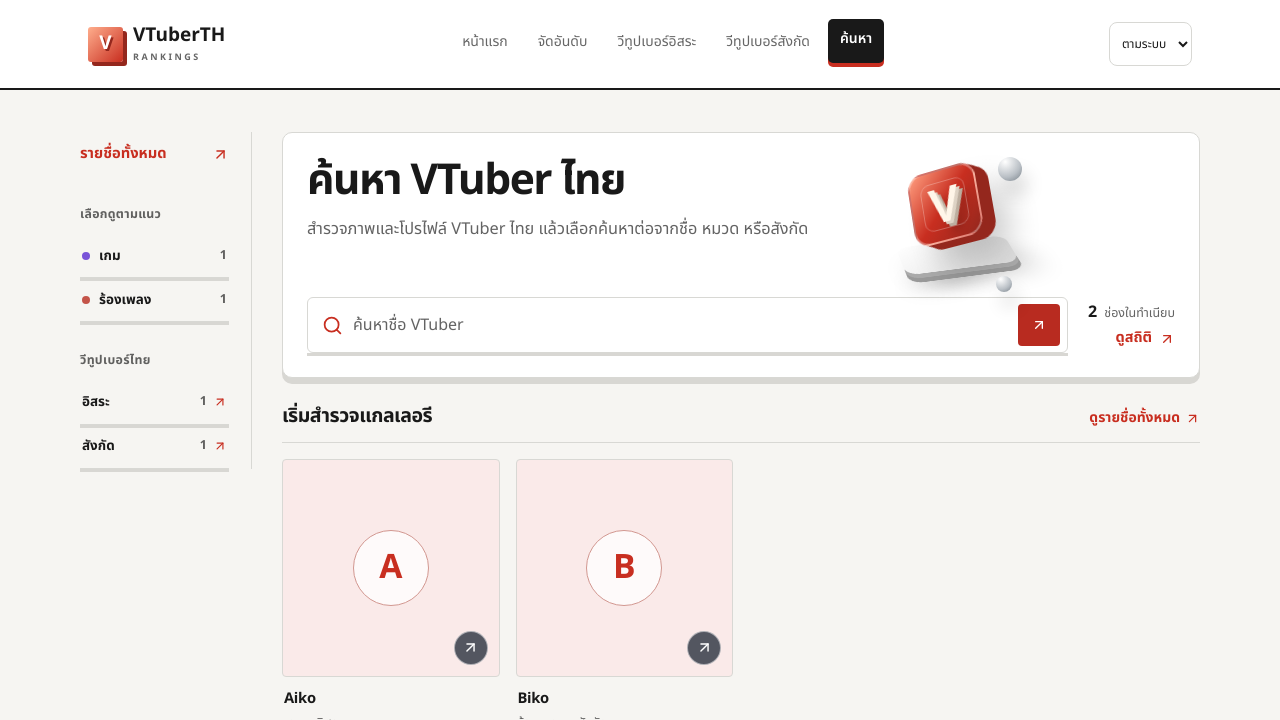
it: Public discovery Home › filters creators by category inside discovery
Click the link "ร้องเพลง 1": (155, 301) [80, 279, 229, 323]
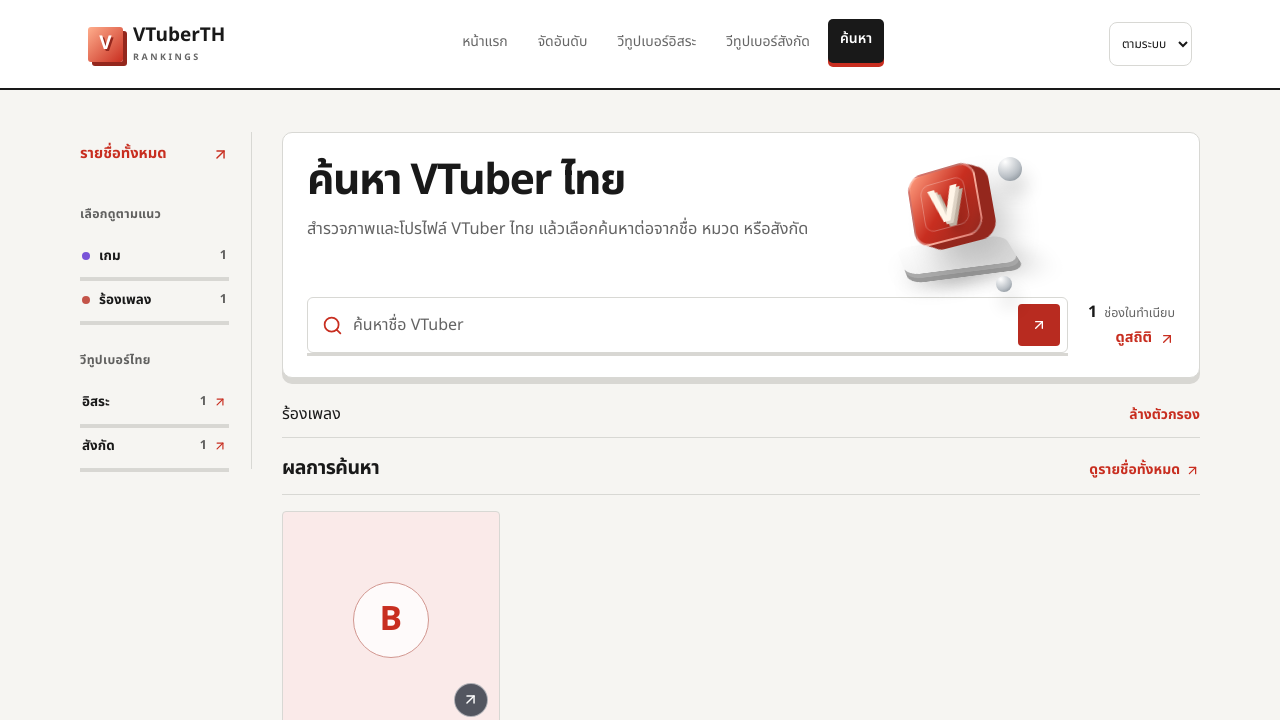
expect the number of links with class "discovery-card" is 1: met, box [282, 511, 500, 719]
